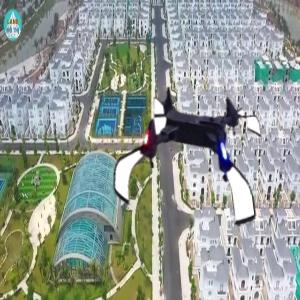drone: (107, 78, 269, 240)
